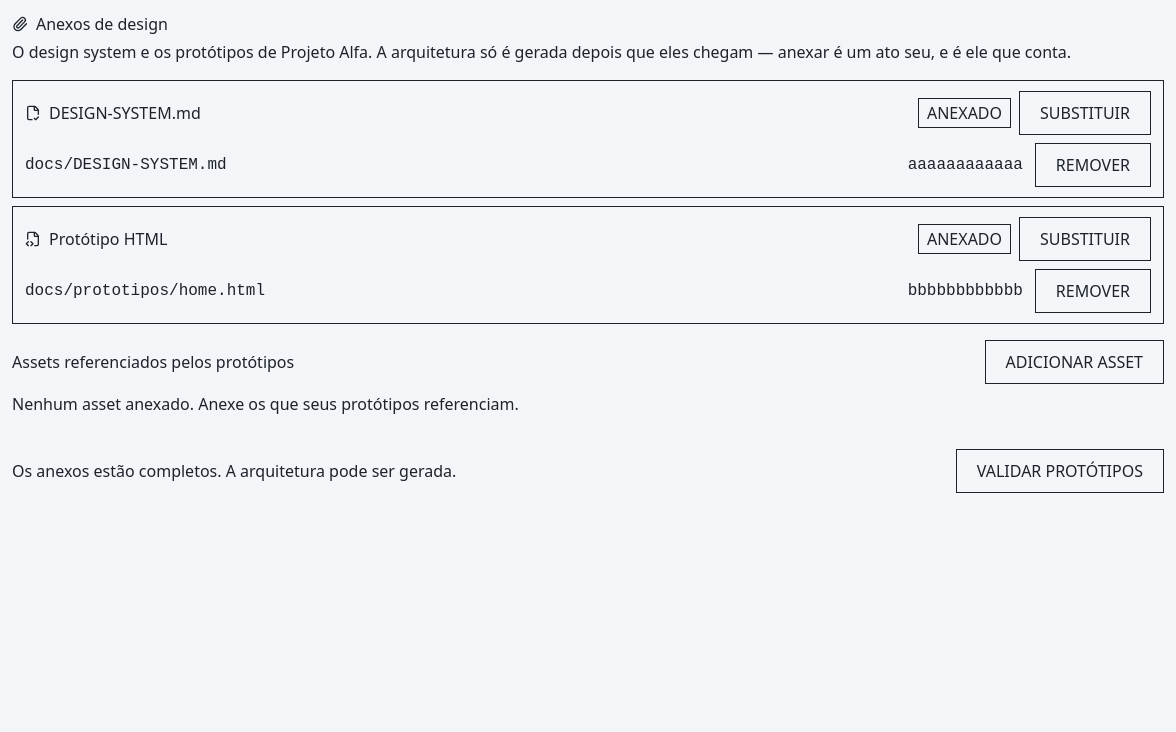
Scenario: os achados da validação › diz quando a validação não achou nada, em vez de ficar em branco
The image size is (1176, 732).
Expected: the text "Os anexos estão completos. A arquitetura pode ser gerada." is shown, [12,459,456,483]
Click the button "Validar protótipos" at (1060, 471), box [956,449,1164,493]
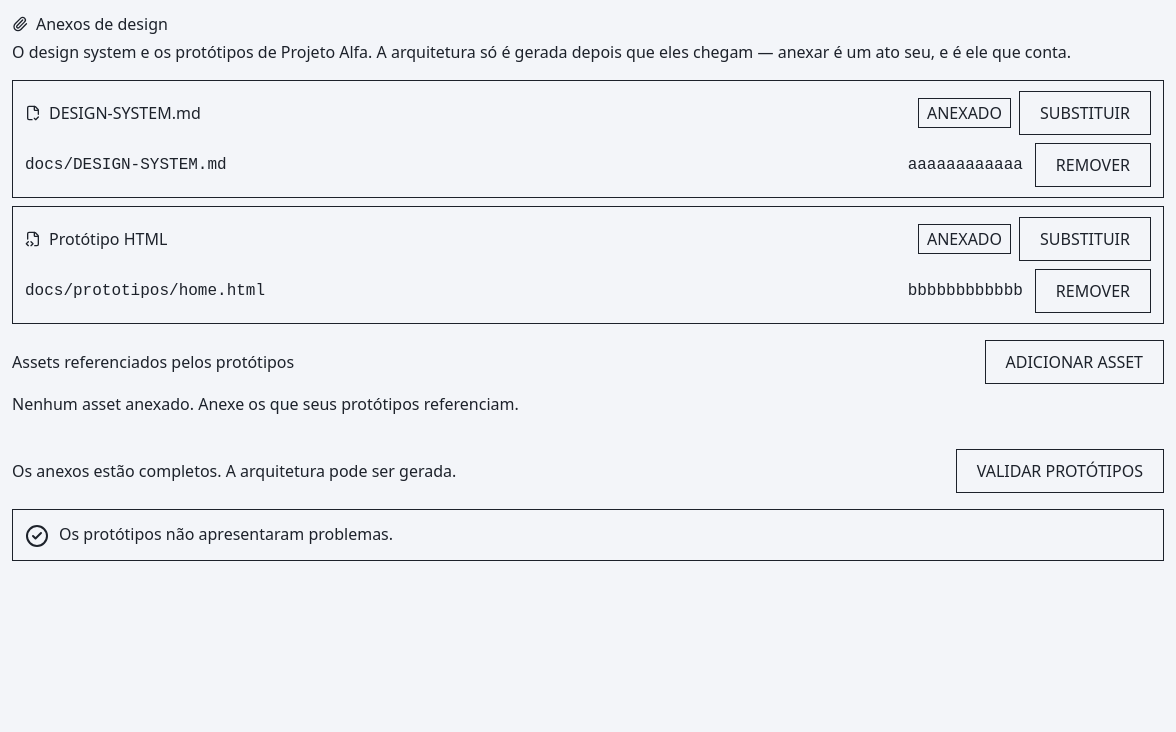
Now the text "Os protótipos não apresentaram problemas." is shown, box [58,522,393,545]
